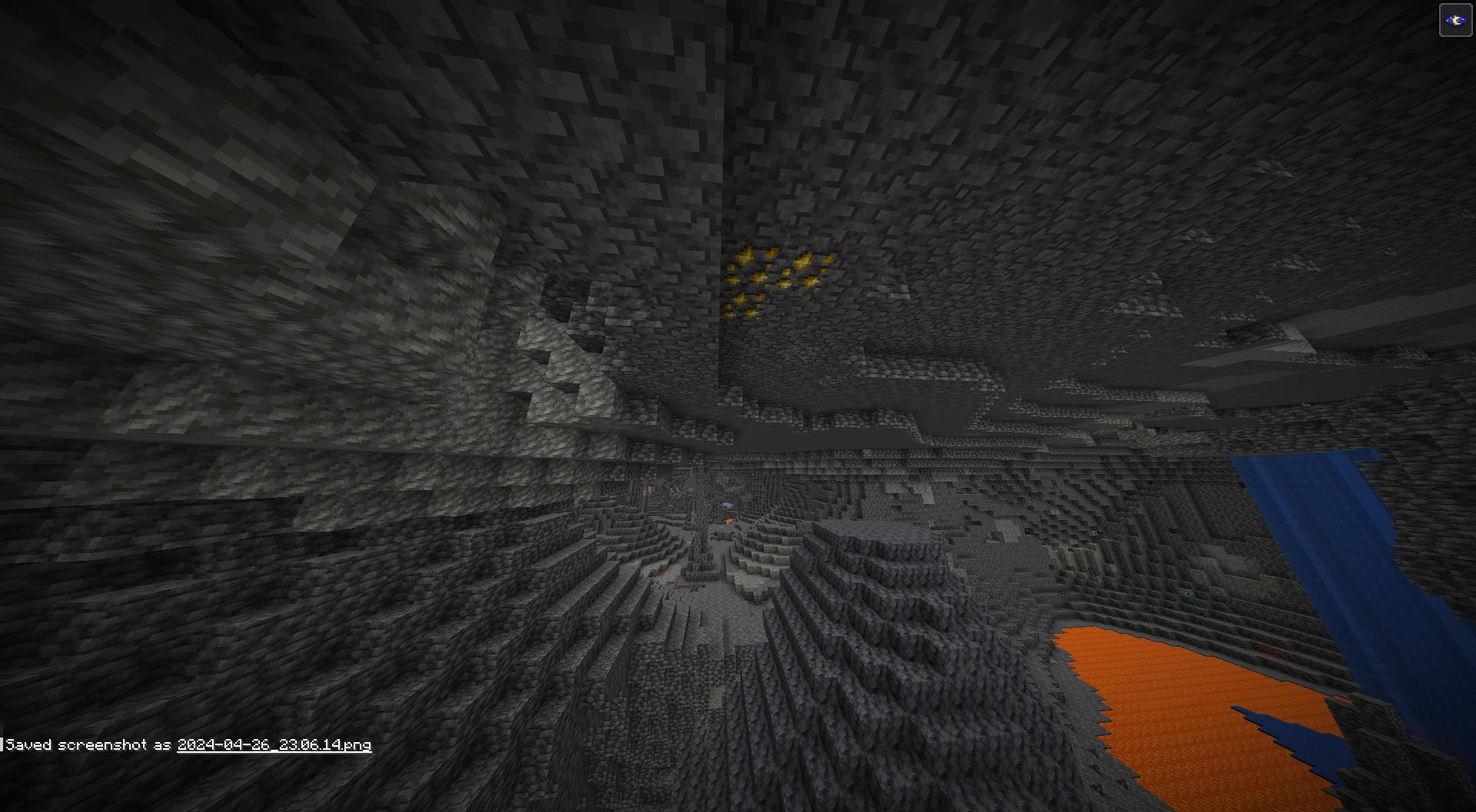gold ore: (776, 244, 842, 297), (723, 239, 774, 286), (715, 288, 769, 325)
